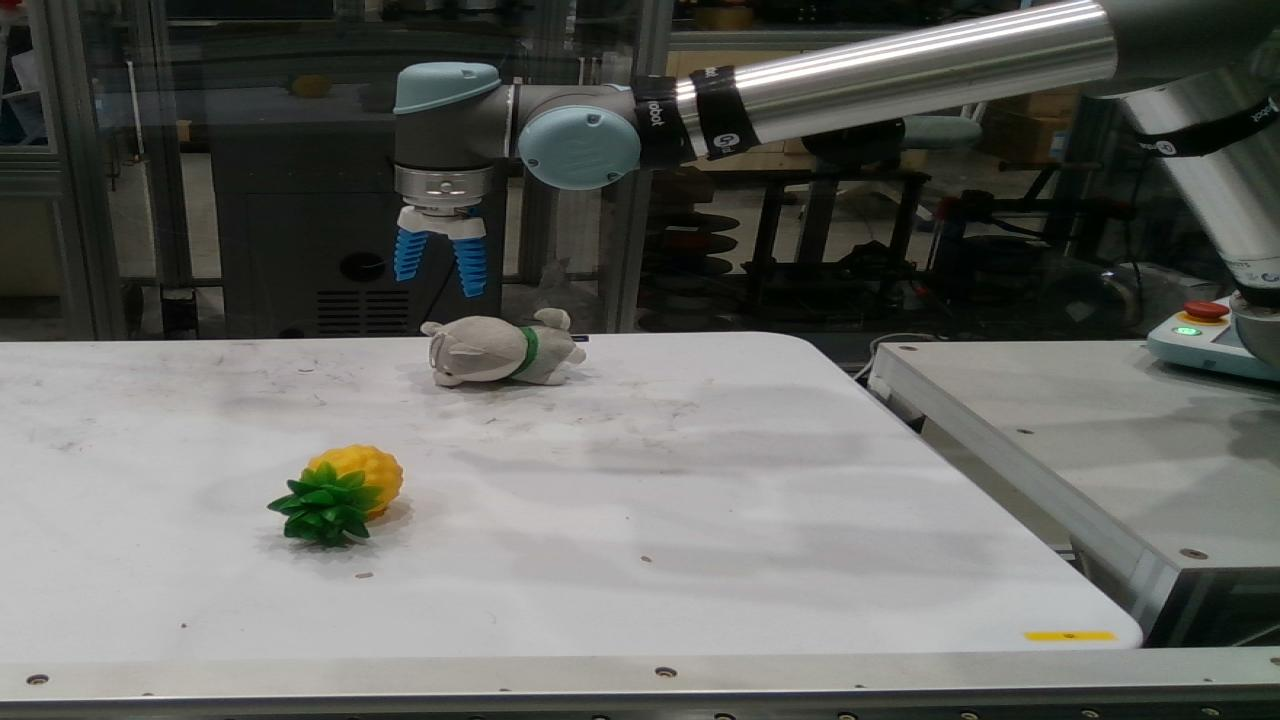UR5: (394, 0, 1279, 368)
gripper_left: (394, 227, 426, 281)
gripper_right: (454, 237, 486, 297)
target: (268, 445, 401, 546), (422, 308, 583, 386)
